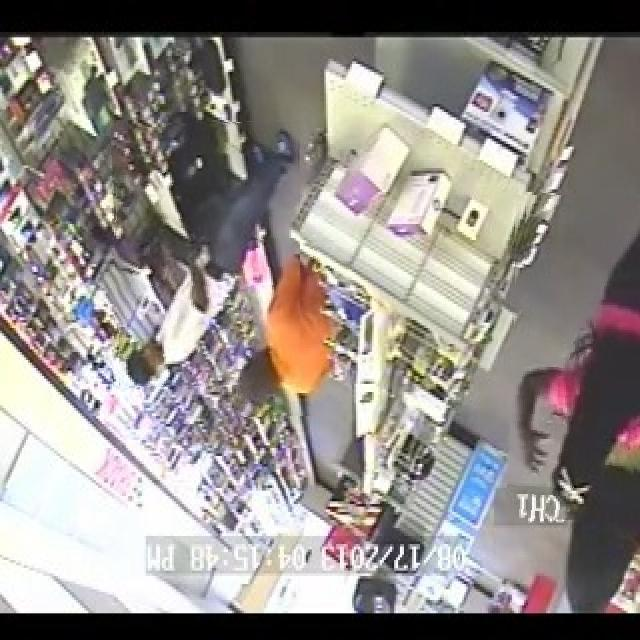Normal: (113, 121, 300, 386), (511, 194, 640, 522), (234, 242, 350, 416)
